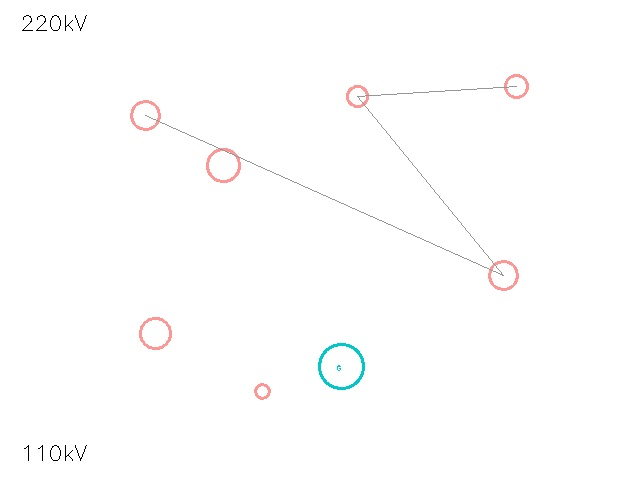disconnect_switch: (190, 132, 256, 198)
feeder_terminal: (247, 376, 277, 406)
fuse: (474, 246, 532, 304), (337, 76, 377, 116)
generator: (319, 344, 363, 388)
load_break_switch: (494, 64, 538, 108)
surge_arrester: (125, 303, 185, 363)
voltage_transformer: (117, 87, 173, 143)
